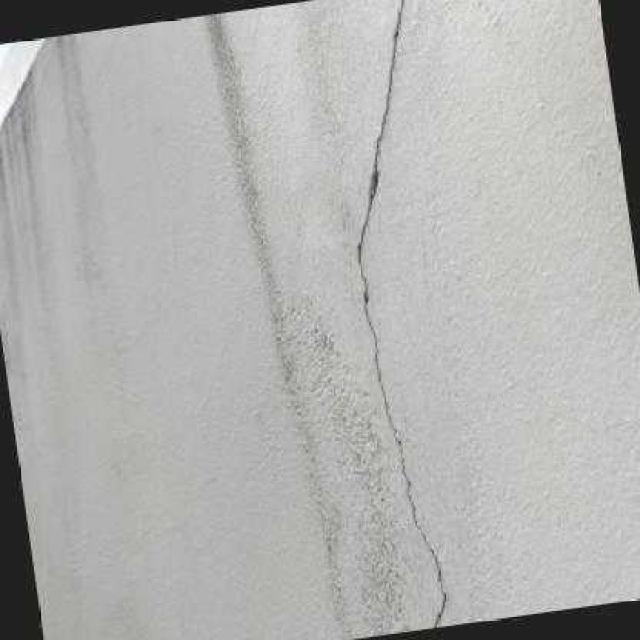D00: (356, 0, 444, 627)
